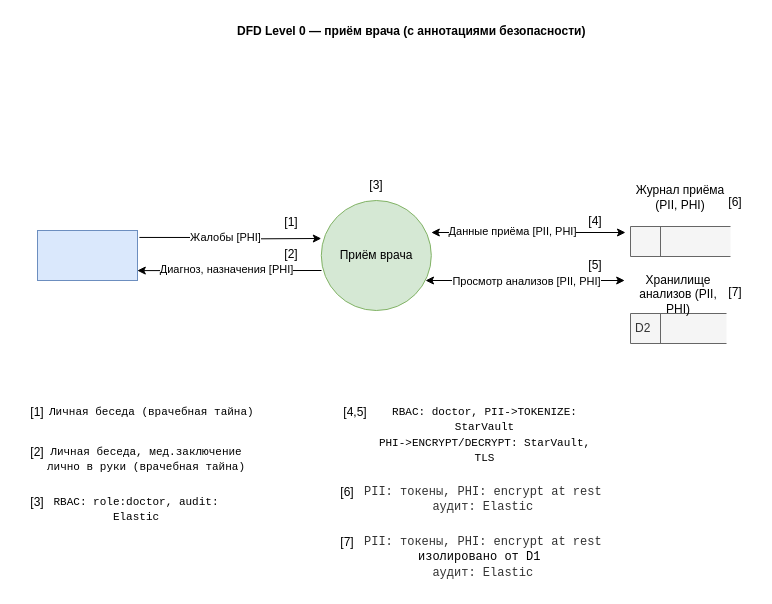
Image size: 772x604. Some labels were removed from this diagram. Each missing label, with the box of its shape:
D1: (630, 226, 730, 256)
Пациент: (36, 230, 138, 280)
